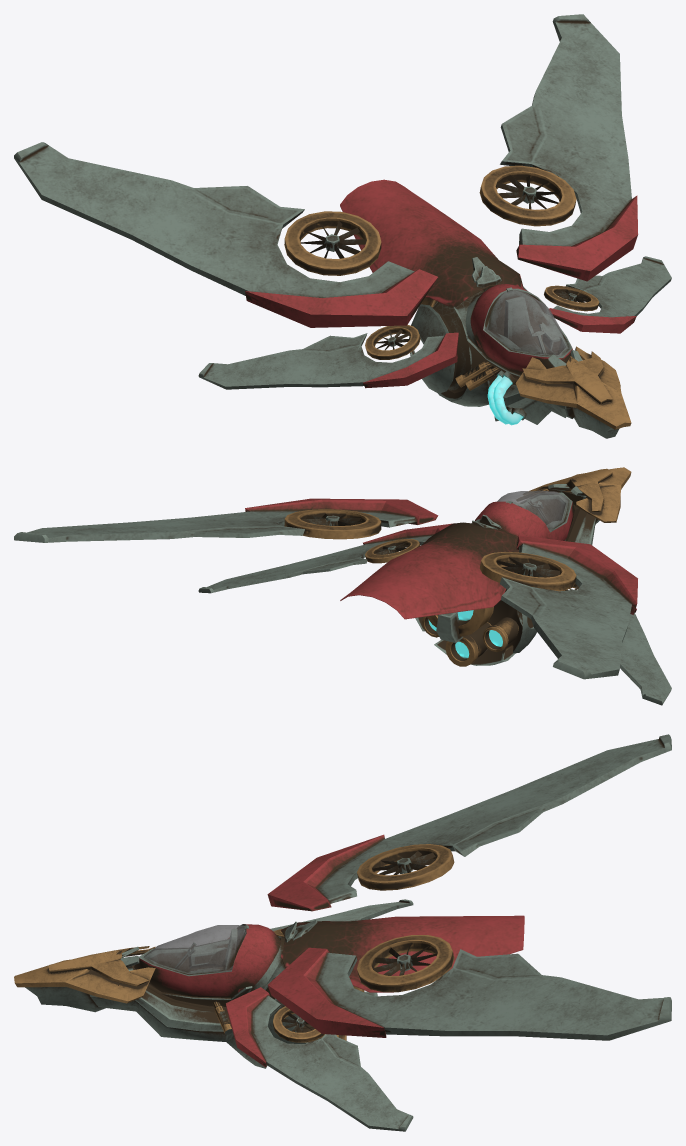
Rendered from space-ship.glb.
3 views of the same model, one above another, from view 1: azimuth 30°, elevation 25°; view 2: azimuth 150°, elevation 25°; view 3: azimuth 270°, elevation 25° (orthographic).
Visible parts, largest first — view 1: Wings_01_low, Wings_02_low, Crete_low, Habitacle_low, Core_low, Visiere_low, Shield_01_low, Shield_02_low, Chair_low, Socle_low, Pipe02_low, Capsule_R_low (+1 smaller); view 2: Wings_01_low, Crete_low, Wings_02_low, Habitacle_low, Core_low, Shield_01_low, Visiere_low, Reactor_01_low, Shield_02_low, Reactor_03_low, Reactor_02_low, Socle_low; view 3: Wings_01_low, Wings_02_low, Crete_low, Habitacle_low, Socle_low, Visiere_low, Shield_01_low, Shield_02_low, Proue_low, Core_low.
Part boxes in pixels (<box>): Wings_01_low: <box>14,14,638,327</box>; Wings_02_low: <box>198,256,671,389</box>; Crete_low: <box>340,179,523,306</box>; Habitacle_low: <box>466,284,572,378</box>; Core_low: <box>409,287,527,406</box>; Visiere_low: <box>484,287,568,356</box>; Shield_01_low: <box>516,346,631,429</box>; Shield_02_low: <box>522,351,612,404</box>; Chair_low: <box>504,296,541,353</box>; Socle_low: <box>487,367,574,424</box>; Pipe02_low: <box>493,371,526,425</box>; Capsule_R_low: <box>455,361,500,390</box>; Wings_01_low: <box>14,498,637,679</box>; Crete_low: <box>340,522,518,619</box>; Wings_02_low: <box>198,523,671,705</box>; Habitacle_low: <box>475,492,574,540</box>; Core_low: <box>415,572,536,665</box>; Shield_01_low: <box>517,467,631,522</box>; Visiere_low: <box>497,490,568,531</box>; Reactor_01_low: <box>426,590,505,642</box>; Shield_02_low: <box>523,468,612,511</box>; Reactor_03_low: <box>422,616,518,652</box>; Reactor_02_low: <box>445,622,491,666</box>; Socle_low: <box>558,492,599,544</box>; Wings_01_low: <box>267,734,671,1040</box>; Wings_02_low: <box>226,899,413,1131</box>; Crete_low: <box>281,915,524,992</box>; Habitacle_low: <box>134,924,280,1006</box>; Socle_low: <box>90,965,267,1068</box>; Visiere_low: <box>143,925,248,973</box>; Shield_01_low: <box>14,946,155,1003</box>; Shield_02_low: <box>48,946,149,986</box>; Proue_low: <box>25,987,105,1012</box>; Core_low: <box>263,939,319,1043</box>.
Bounding box in the file's own units: 31.82 × 10.26 × 31.05.
1 material, 1 textured.
